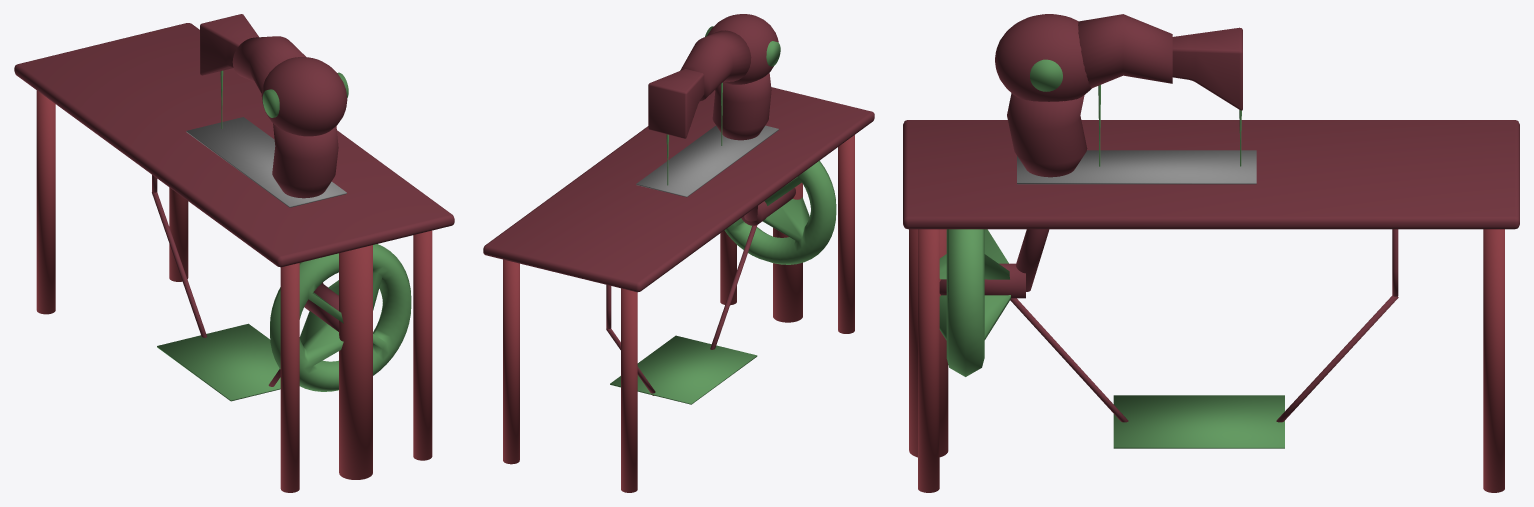
Rendered from ClothTable.fbx.
The picture shows the model from 3 angles, left to right: view 1: azimuth 30°, elevation 25°; view 2: azimuth 150°, elevation 25°; view 3: azimuth 270°, elevation 25°; orthographic projection. The views are drawn at different scales.
Visible parts, largest first — view 1: Cube, Cylinder, Torus, Cylinder.006, Cube.003, Sphere, Cube.002, Cylinder.001, Cube.001, Cylinder.002, Cylinder.010, Cylinder.007 (+1 smaller); view 2: Cube, Cylinder, Torus, Cube.003, Cube.002, Cube.001, Cylinder.001, Cylinder.002, Sphere, Cylinder.006, Cylinder.009, Cylinder.007; view 3: Cube, Cylinder, Cube.003, Torus, Cube.002, Sphere, Cylinder.002, Cylinder.001, Cube.001, Cylinder.006, Cylinder.008, Cylinder.010 (+3 smaller).
Part boxes in pixels (bbox=[...]): Cube: bbox=[14, 23, 454, 267]; Cylinder: bbox=[36, 90, 432, 492]; Torus: bbox=[270, 244, 411, 391]; Cylinder.006: bbox=[339, 245, 372, 479]; Cube.003: bbox=[157, 323, 280, 401]; Sphere: bbox=[261, 57, 347, 136]; Cube.002: bbox=[186, 117, 346, 207]; Cylinder.001: bbox=[272, 123, 338, 198]; Cube.001: bbox=[200, 14, 258, 75]; Cylinder.002: bbox=[232, 36, 306, 93]; Cylinder.010: bbox=[152, 192, 207, 337]; Cylinder.007: bbox=[304, 284, 339, 331]; Cube: bbox=[483, 87, 874, 292]; Cylinder: bbox=[503, 135, 854, 492]; Torus: bbox=[724, 160, 836, 264]; Cube.003: bbox=[610, 335, 757, 404]; Cube.002: bbox=[636, 125, 778, 197]; Cube.001: bbox=[648, 69, 704, 138]; Cylinder.001: bbox=[712, 73, 771, 140]; Cylinder.002: bbox=[680, 30, 751, 101]; Sphere: bbox=[707, 14, 778, 84]; Cylinder.006: bbox=[773, 182, 802, 322]; Cylinder.009: bbox=[710, 225, 757, 349]; Cylinder.007: bbox=[741, 188, 795, 225]; Cube: bbox=[903, 120, 1519, 229]; Cylinder: bbox=[918, 229, 1504, 492]; Cube.003: bbox=[1113, 395, 1284, 448]; Torus: bbox=[939, 229, 1011, 376]; Cube.002: bbox=[1017, 150, 1256, 184]; Sphere: bbox=[995, 14, 1091, 101]; Cylinder.002: bbox=[1078, 14, 1172, 88]; Cylinder.001: bbox=[1007, 93, 1087, 177]; Cube.001: bbox=[1172, 27, 1242, 110]; Cylinder.006: bbox=[909, 229, 948, 457]; Cylinder.008: bbox=[1016, 229, 1049, 291]; Cylinder.010: bbox=[1276, 295, 1398, 422].
Size of the model in its own units: 50 by 101 by 130.
